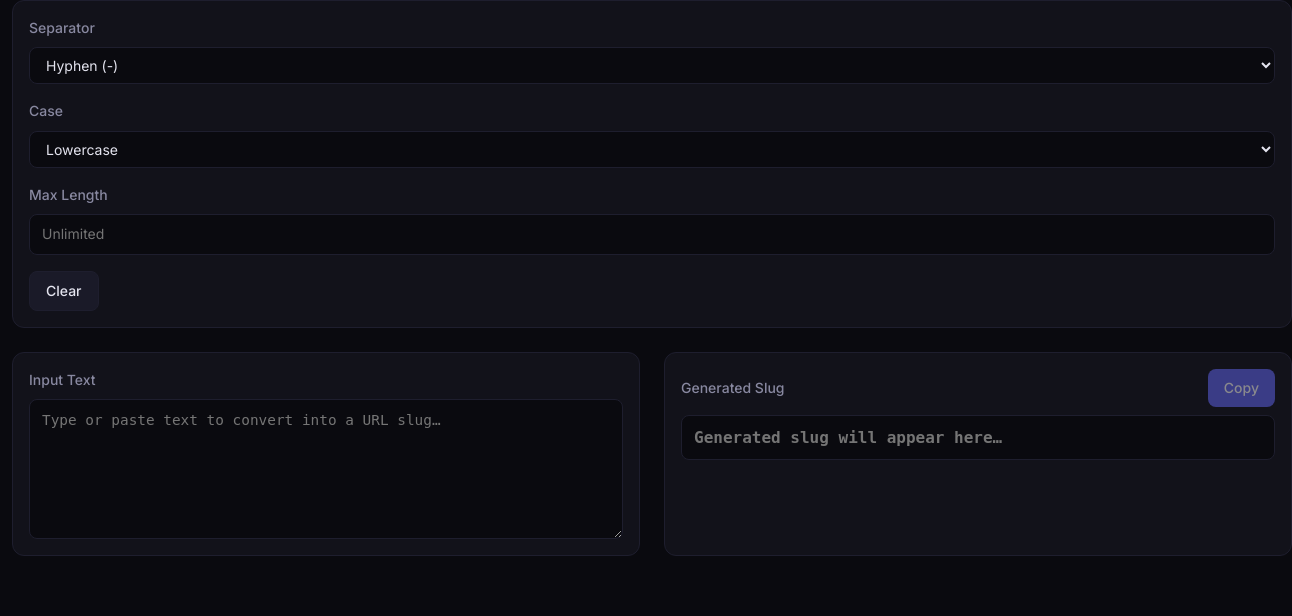
Test: SlugTool Component › handles copy-to-clipboard success feedback
The image size is (1292, 616).
Expected: the button with aria-label "Copy generated slug" is disabled, x1=1208 y1=369 x2=1275 y2=407
Type "Awesome Product Title" into the text box labelled "Input Text". click: (326, 469)
box: x1=29 y1=399 x2=623 y2=539
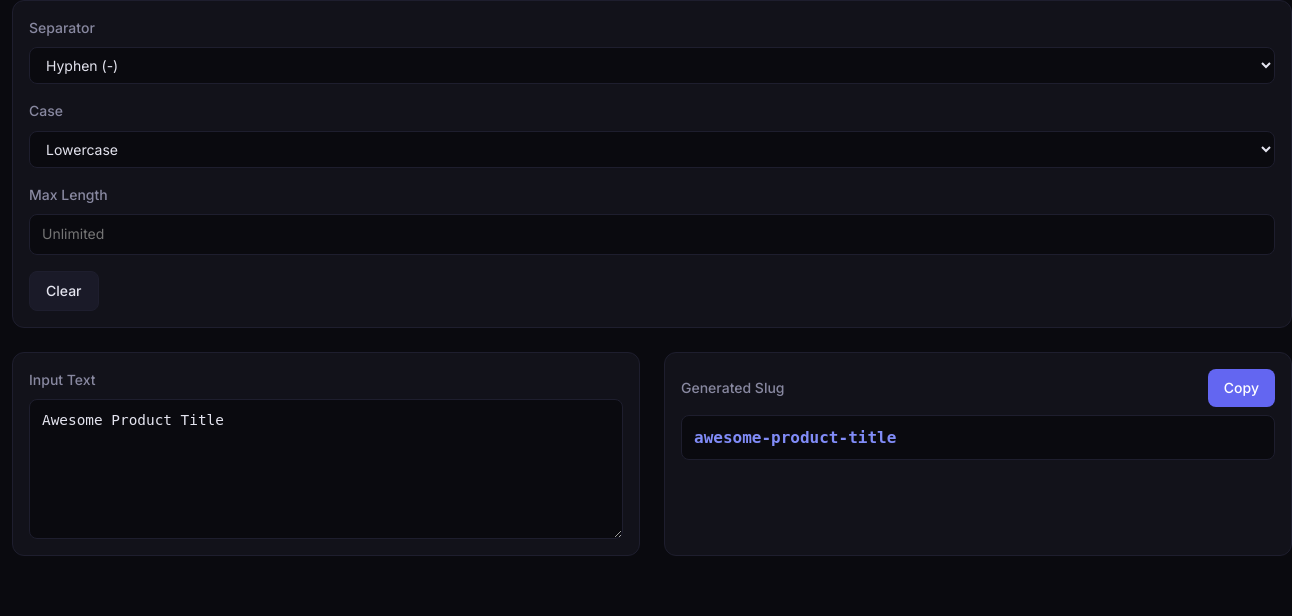
Expected: the button with aria-label "Copy generated slug" is enabled
Click the button with aria-label "Copy generated slug". click: click(1241, 388)
box: x1=1208 y1=369 x2=1275 y2=407
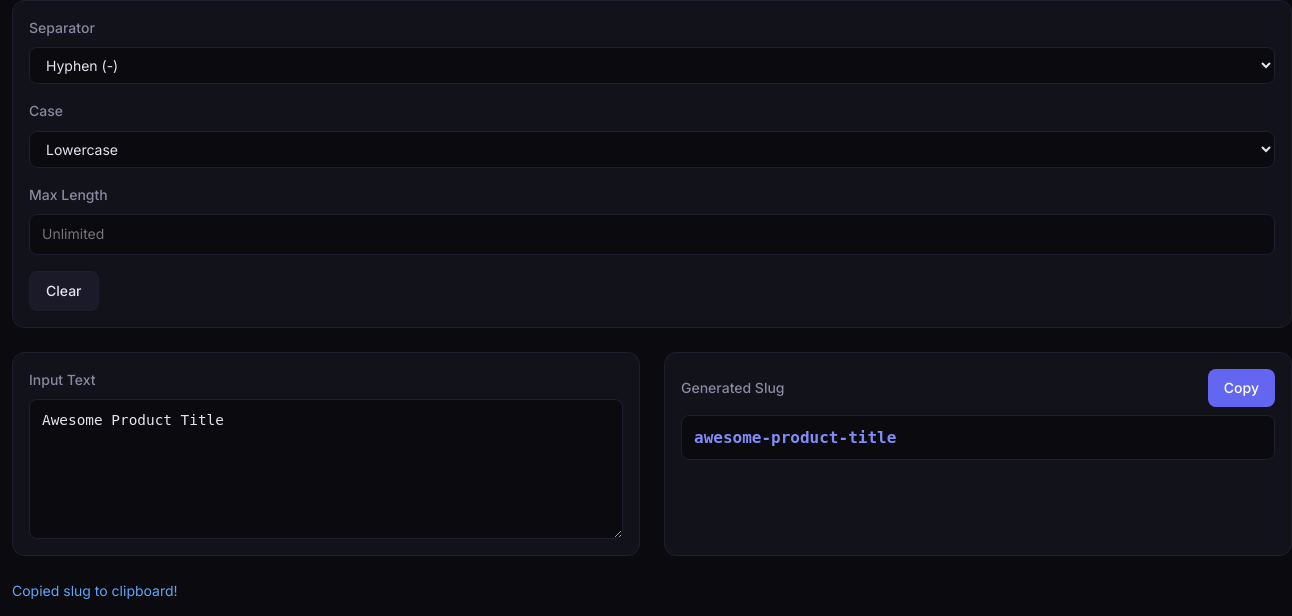
Expected: the message reads "Copied slug to clipboard!", x1=12 y1=582 x2=178 y2=599
